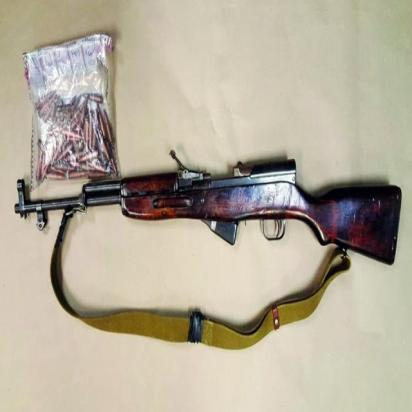Gun: (12, 147, 404, 277)
